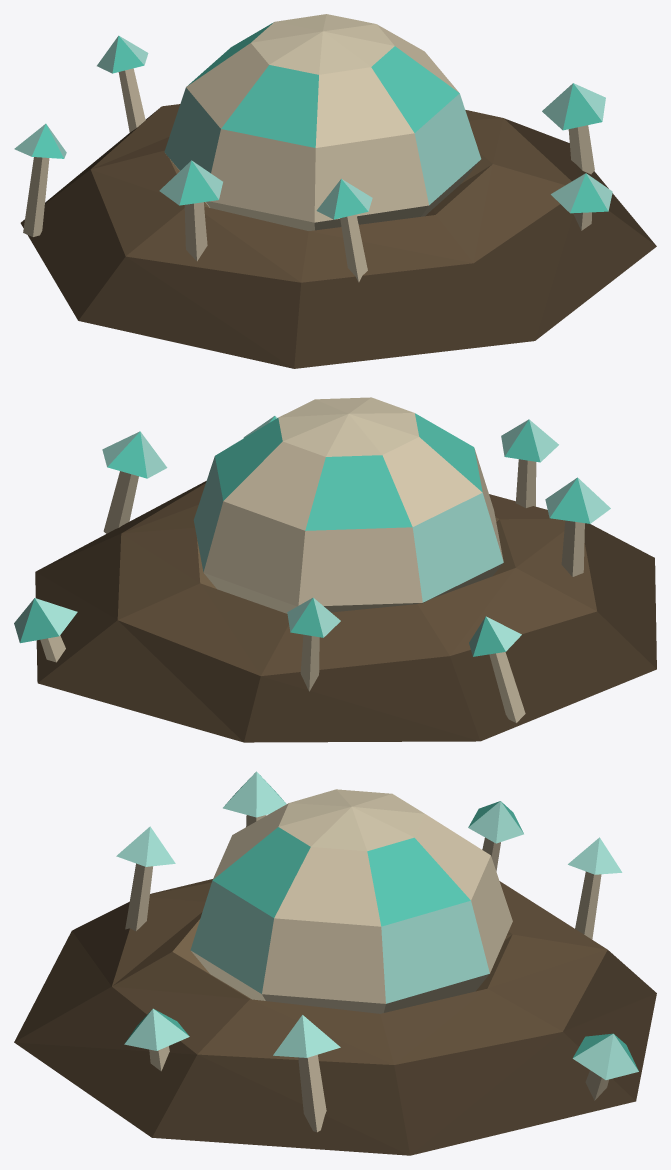
File: spore_vent.glb
3 views of the same model, one above another, from view 1: azimuth 30°, elevation 25°; view 2: azimuth 150°, elevation 25°; view 3: azimuth 270°, elevation 25° (orthographic). The views are drawn at different scales.
Visible parts, largest first — view 1: spore_vent, cap; view 2: spore_vent, cap; view 3: spore_vent, cap.
Part boxes in pixels (left/top/right/bottom): spore_vent: left=14, top=35, right=656, bottom=368; cap: left=164, top=14, right=481, bottom=230; spore_vent: left=14, top=416, right=656, bottom=742; cap: left=193, top=397, right=503, bottom=613; spore_vent: left=14, top=771, right=656, bottom=1155; cap: left=190, top=789, right=512, bottom=1013.
Bounding box in the file's own units: 0.8792 × 0.31 × 0.8581.
